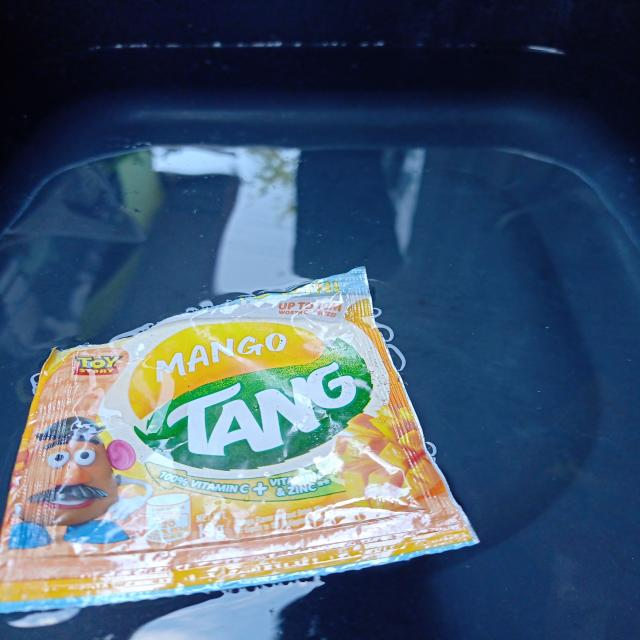Plastic Wrapper: (0, 267, 478, 612)
